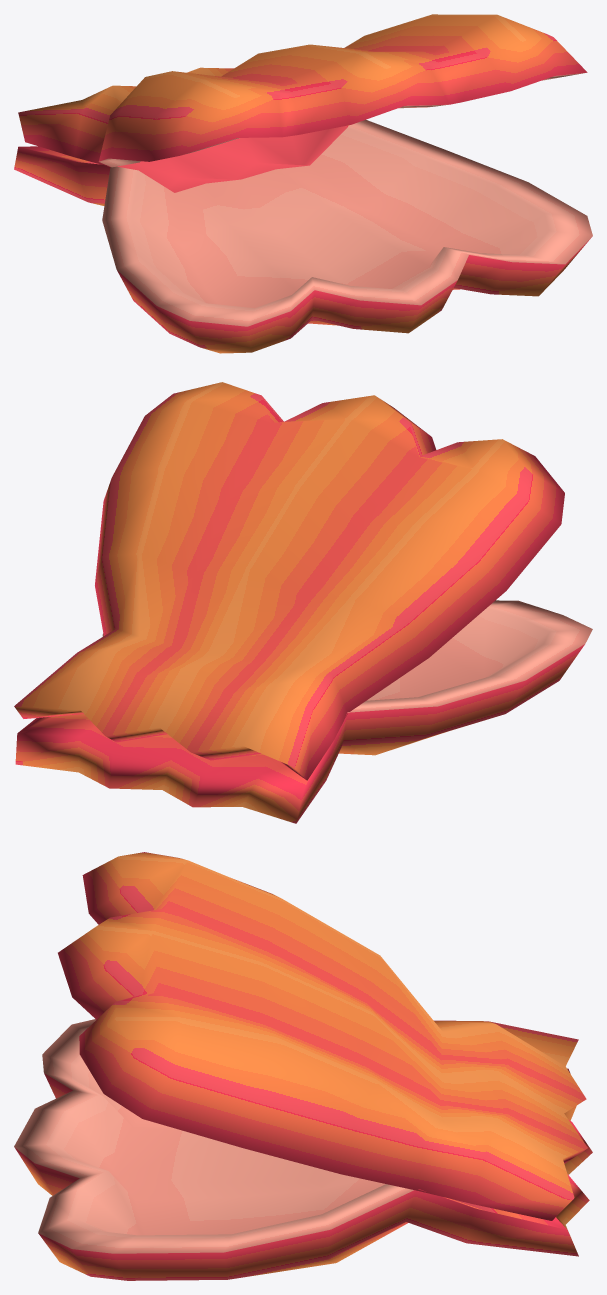
Rendered from SM_seaShell.fbx.
3 renders of one model, top to bottom at view 1: azimuth 30°, elevation 25°; view 2: azimuth 150°, elevation 25°; view 3: azimuth 270°, elevation 25°, orthographic. The views are drawn at different scales.
Parts seen in each view (by area): view 1: SM_seaShell; view 2: SM_seaShell; view 3: SM_seaShell.
Part boxes in pixels (left/top/right/bottom): SM_seaShell: left=14, top=14, right=592, bottom=353; SM_seaShell: left=14, top=382, right=592, bottom=823; SM_seaShell: left=14, top=852, right=592, bottom=1280.
Bounding box in the file's own units: 64.75 × 37.87 × 69.38.
Materials: 1 (1 with a texture image).
